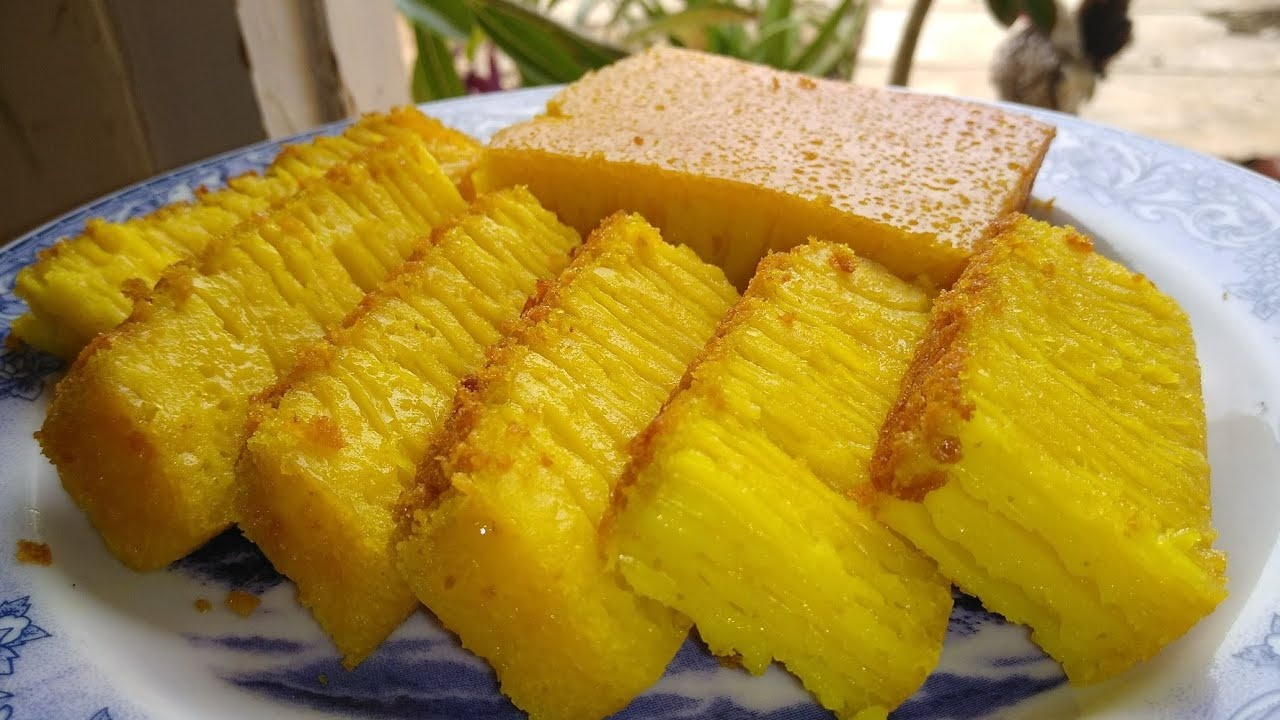bika_ambon: (29, 129, 896, 705), (878, 191, 1244, 677)
